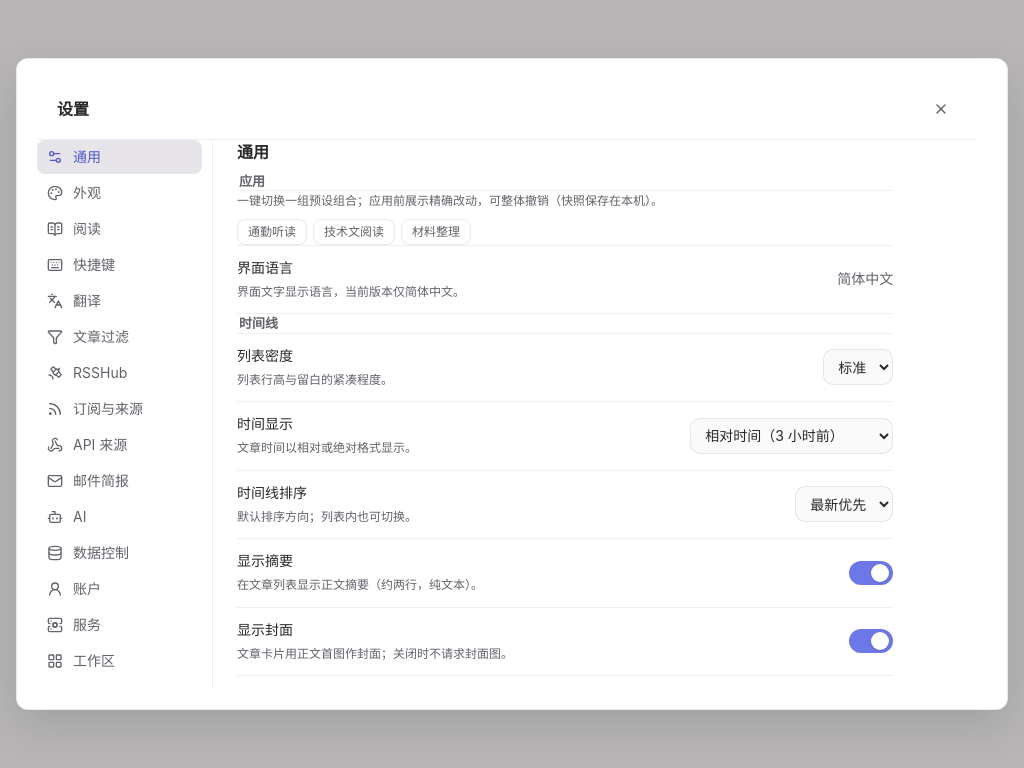
Test case: 翻译页（R21：AI / 浏览器两方式，无自托管引擎） › 引擎（运行位置）+ 目标语言 + 按需说明 + AI Profile 指引
This screenshot has width=1024, height=768.
Click the button "翻译": (120, 301) [37, 284, 202, 318]
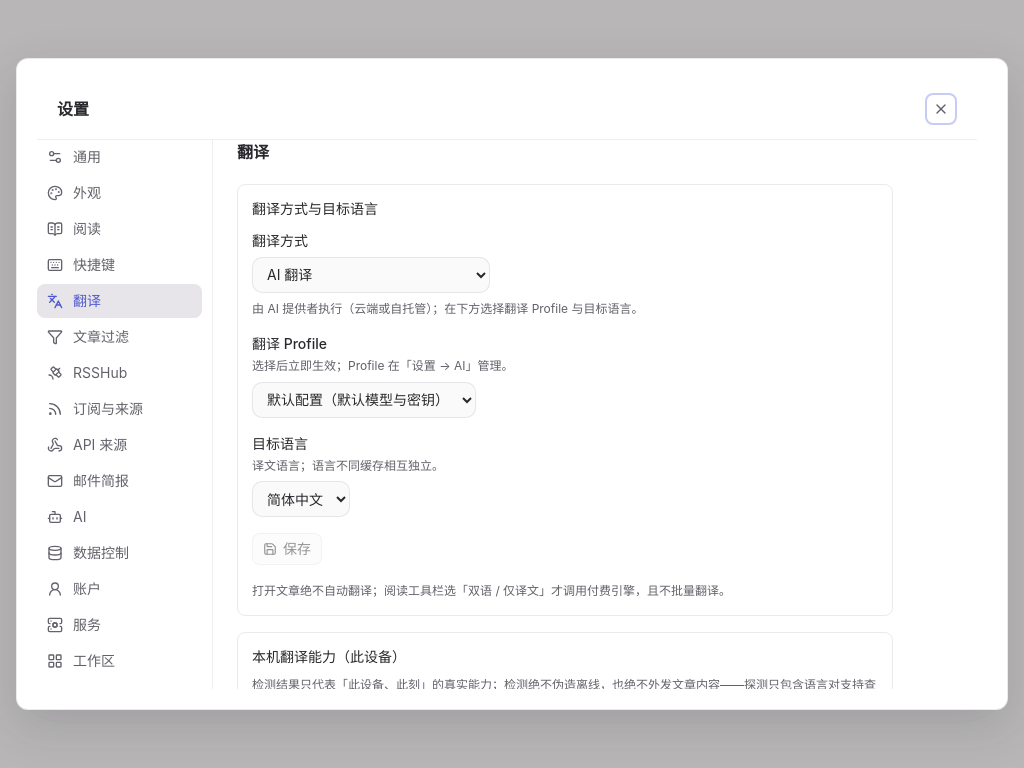
Expected: the heading "翻译方式与目标语言" is shown, [252, 200, 378, 217]
Expected: the text "由 AI 提供者执行（云端或自托管）；在下方选择翻译 Profile 与目标语言。" is shown, [252, 301, 643, 316]
Expected: the text "打开文章绝不自动翻译；阅读工具栏选「双语 / 仅译文」才调用付费引擎，且不批量翻译。" is shown, [252, 583, 731, 598]
